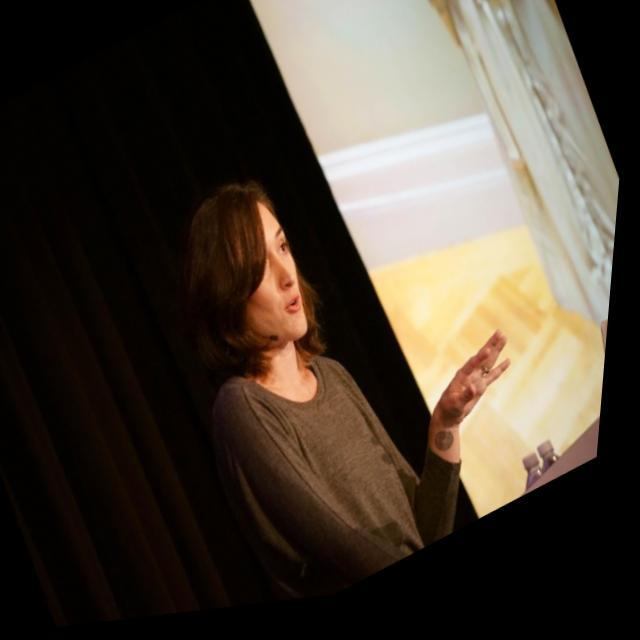Nonhelmet: (180, 179, 326, 379)
